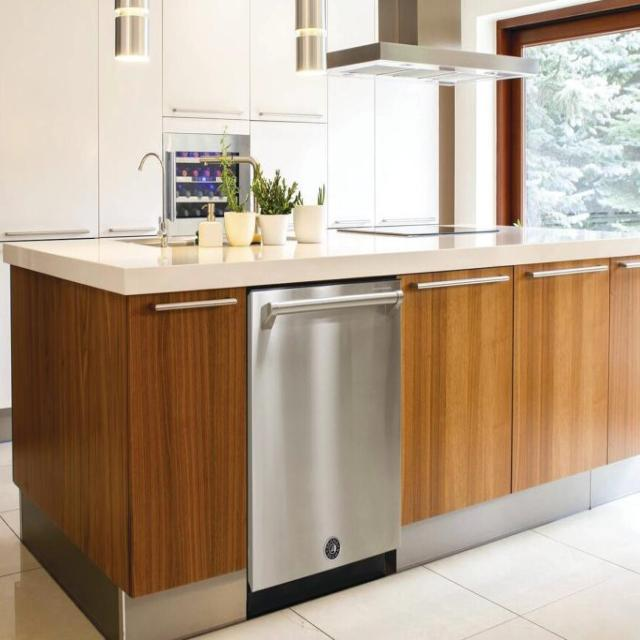dishwasher: (244, 274, 400, 606)
